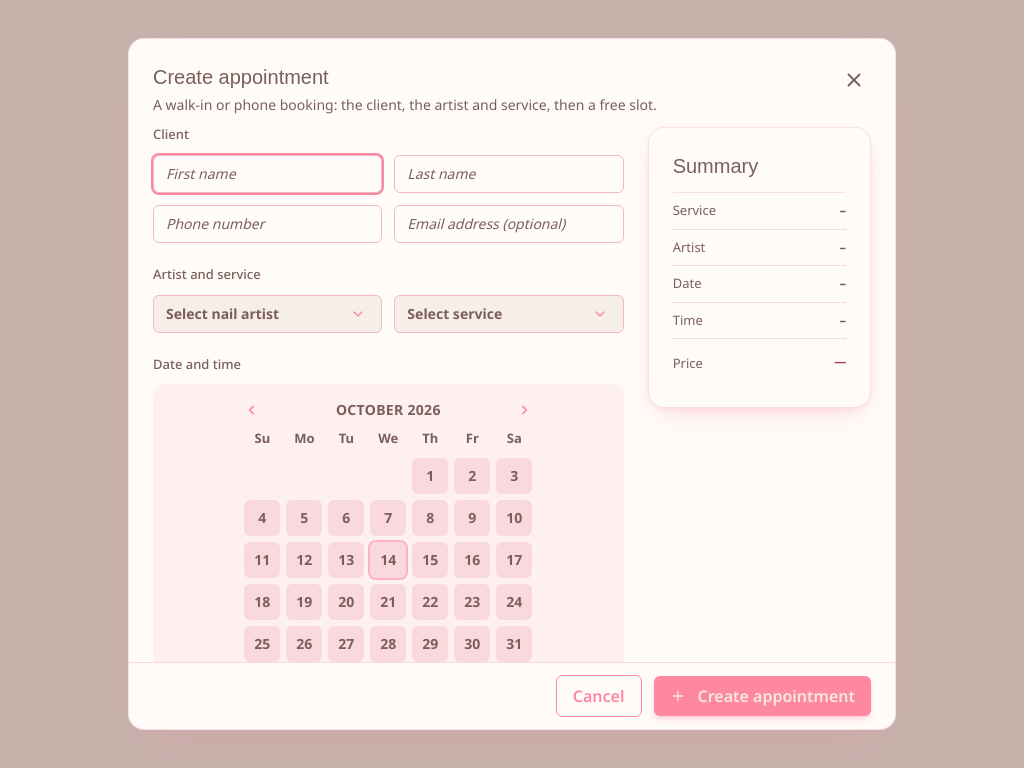
Scenario: CreateAppointmentDialog: date and time › says there is no schedule for an artist without time slots
This screenshot has width=1024, height=768.
Expected: the button "Select service" is enabled, 394,295 -> 624,333
Click the button "Select nail artist": (268, 314) 153,295 -> 382,333
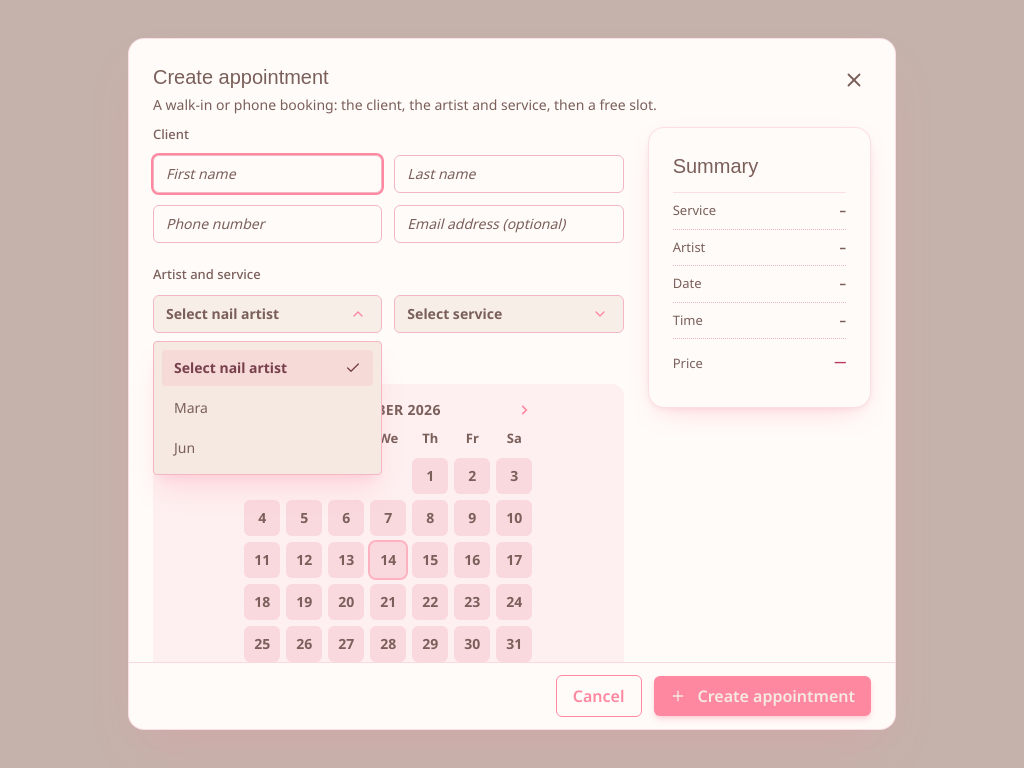
Click the option "Mara": (268, 408) 162,390 -> 373,426
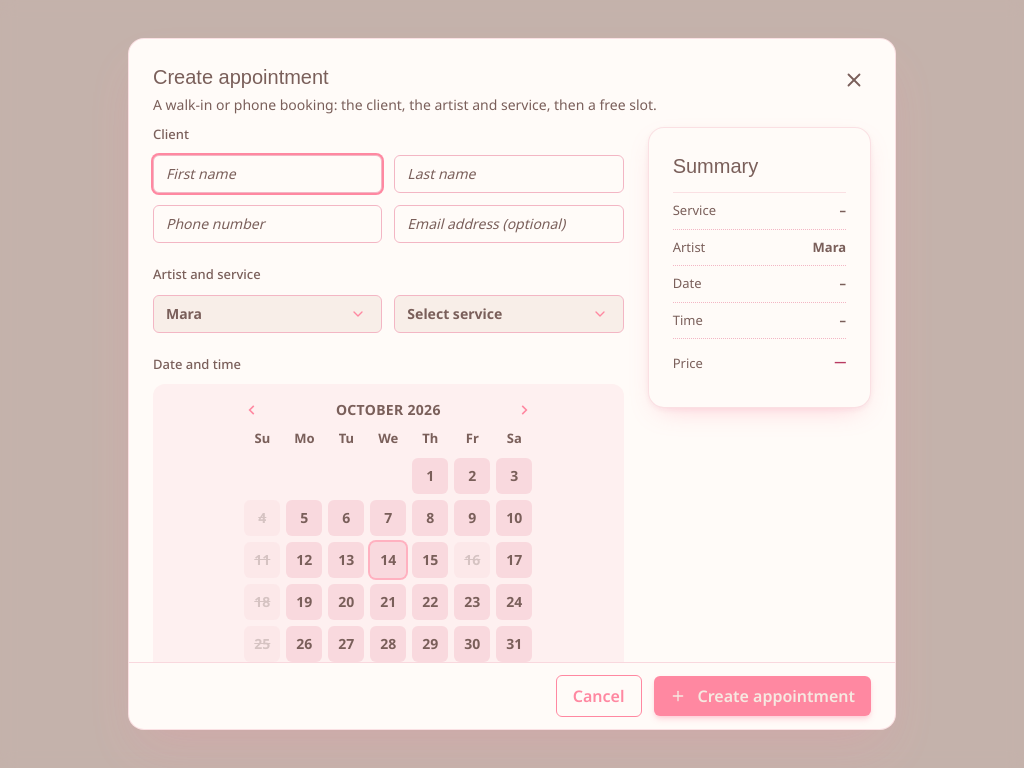
Click the button named "October 15th, 2026": (430, 560) 412,542 -> 448,578
(page scrolled)
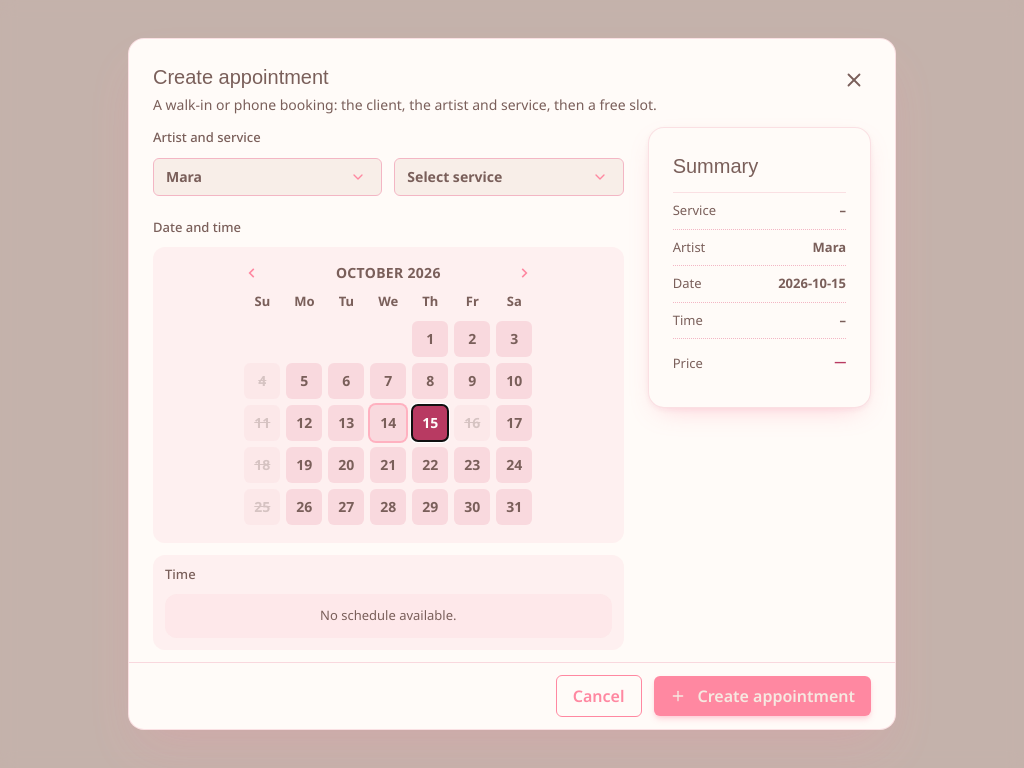
Expected: the text "No schedule available." is shown, 165,594 -> 612,638
